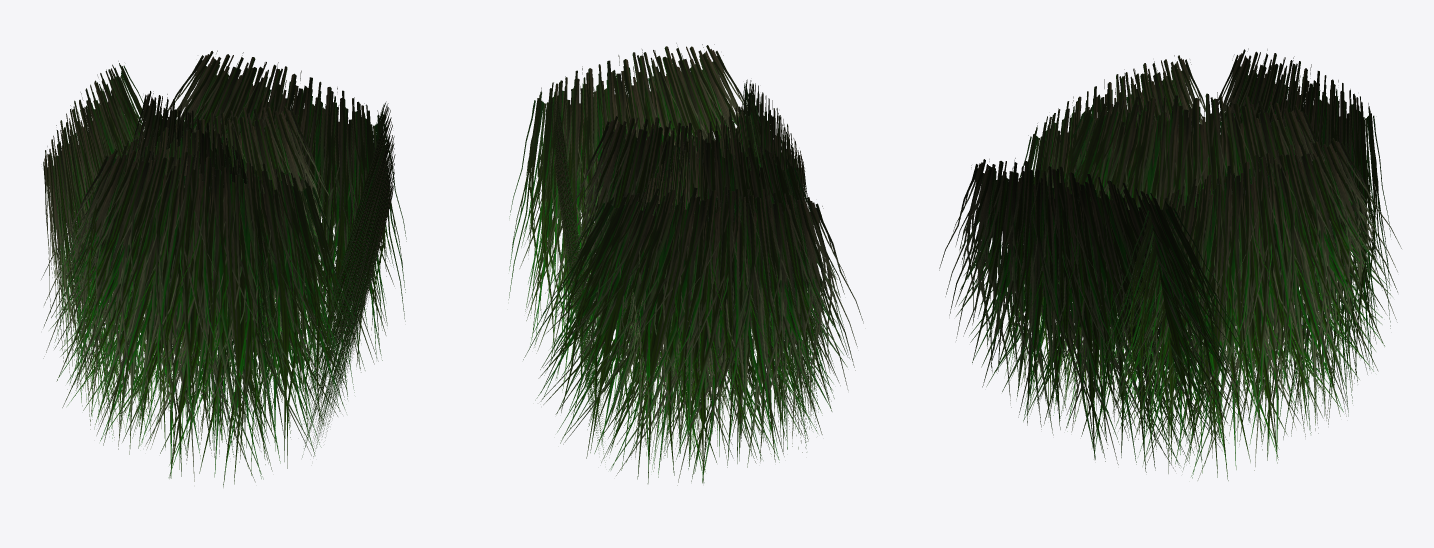
Rendered from foliageGrass.fbx.
3 views of the same model, side by side, from view 1: azimuth 30°, elevation 25°; view 2: azimuth 150°, elevation 25°; view 3: azimuth 270°, elevation 25° (orthographic). The views are drawn at different scales.
Visible parts, largest first — view 1: Plane001; view 2: Plane001; view 3: Plane001.
Part boxes in pixels (x1,y1,x2,y2): Plane001: (41, 50, 406, 487); Plane001: (508, 43, 863, 485); Plane001: (939, 48, 1401, 480).
Size of the model in its own units: 1.14 by 1.04 by 1.23.
